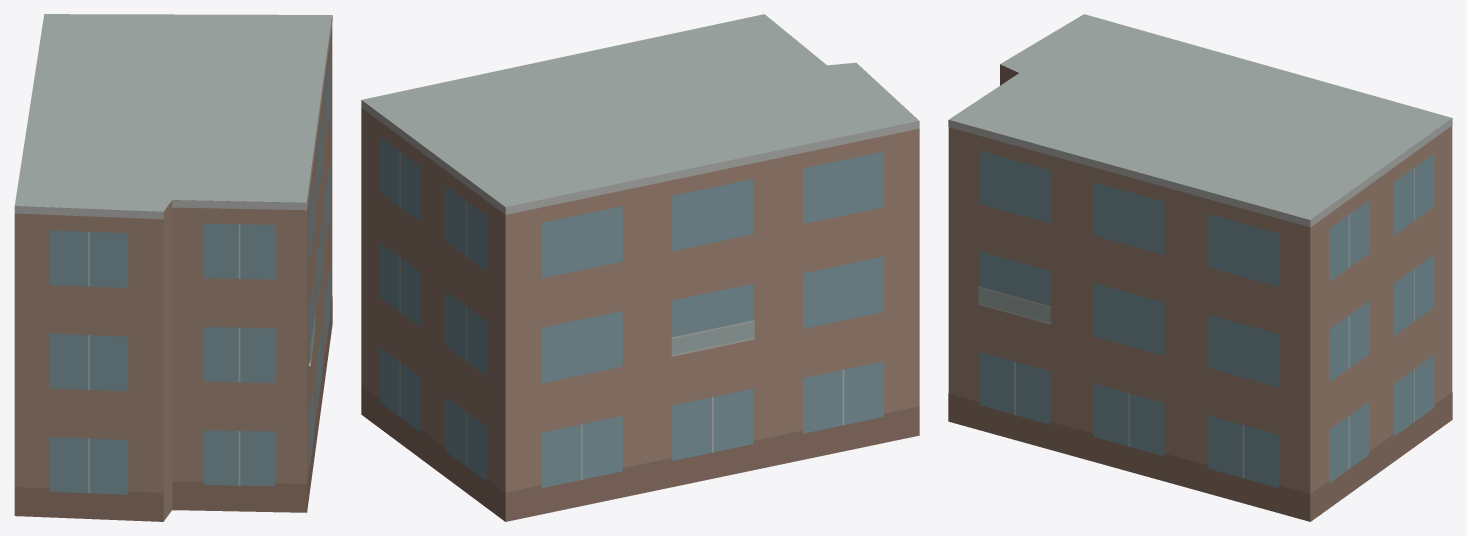
File: survey-upis-32836787.glb
The picture shows the model from 3 angles, left to right: view 1: azimuth 30°, elevation 25°; view 2: azimuth 150°, elevation 25°; view 3: azimuth 270°, elevation 25°; orthographic projection. The views are drawn at different scales.
Visible parts, largest first — view 1: survey-upis-32836787.tmp; view 2: survey-upis-32836787.tmp; view 3: survey-upis-32836787.tmp.
Boxes of the visible parts, x1,y1,x2,y2 form: survey-upis-32836787.tmp: (14, 14, 332, 521); survey-upis-32836787.tmp: (361, 14, 919, 521); survey-upis-32836787.tmp: (948, 14, 1452, 521).
Size of the model in its own units: 14.65 by 10 by 15.15.
